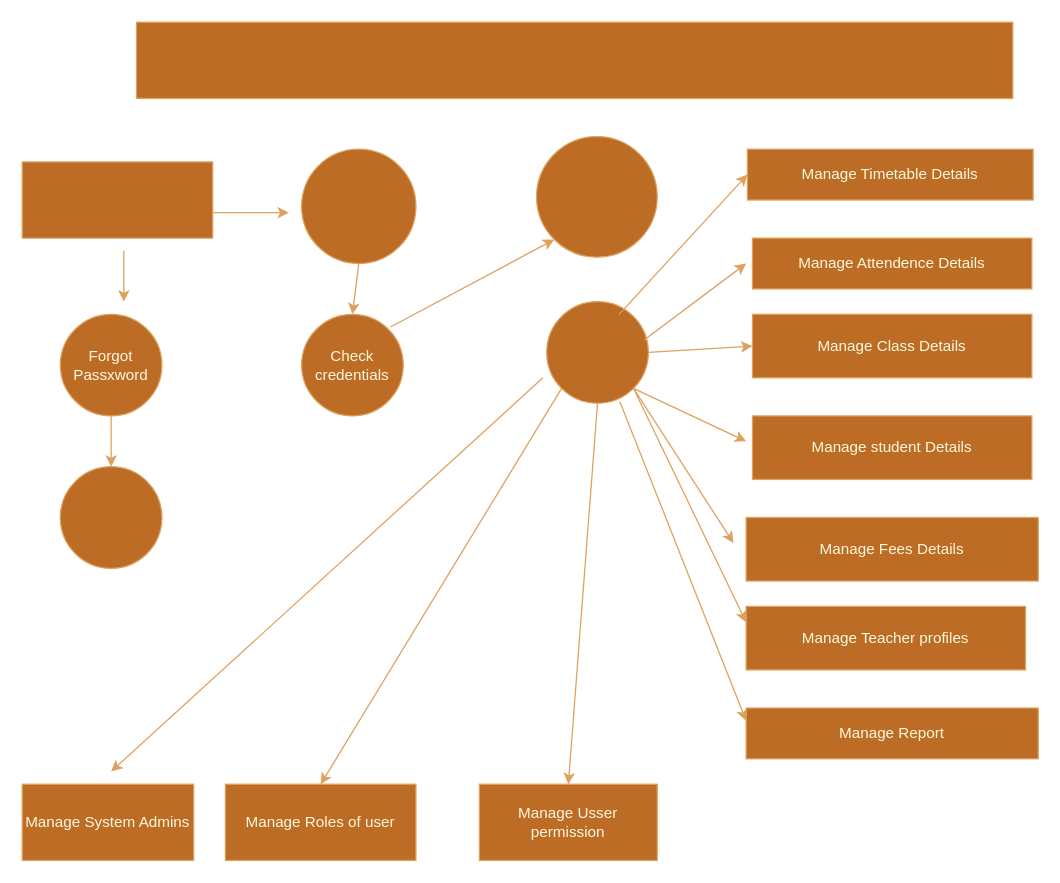
This 1060x883 diagram has some shape labels left out. The shapes that lost their labels are listed below. From the top down, each one's centre as x and y in pixels, then its label:
At [574,59]: "Student information System".
At [117,199]: "Admin".
At [358,206]: "login to system".
At [596,196]: "check roles of access".
At [596,351]: "Manage Modules".
At [110,516]: "Send Emaik to user".
